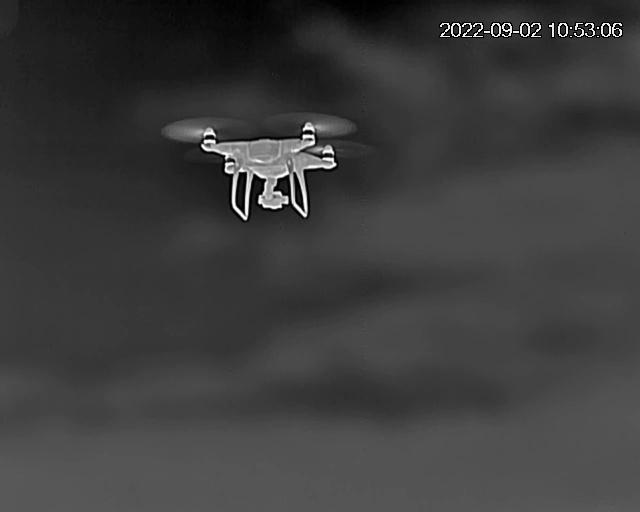DJI-Phantom: (161, 116, 372, 220)
